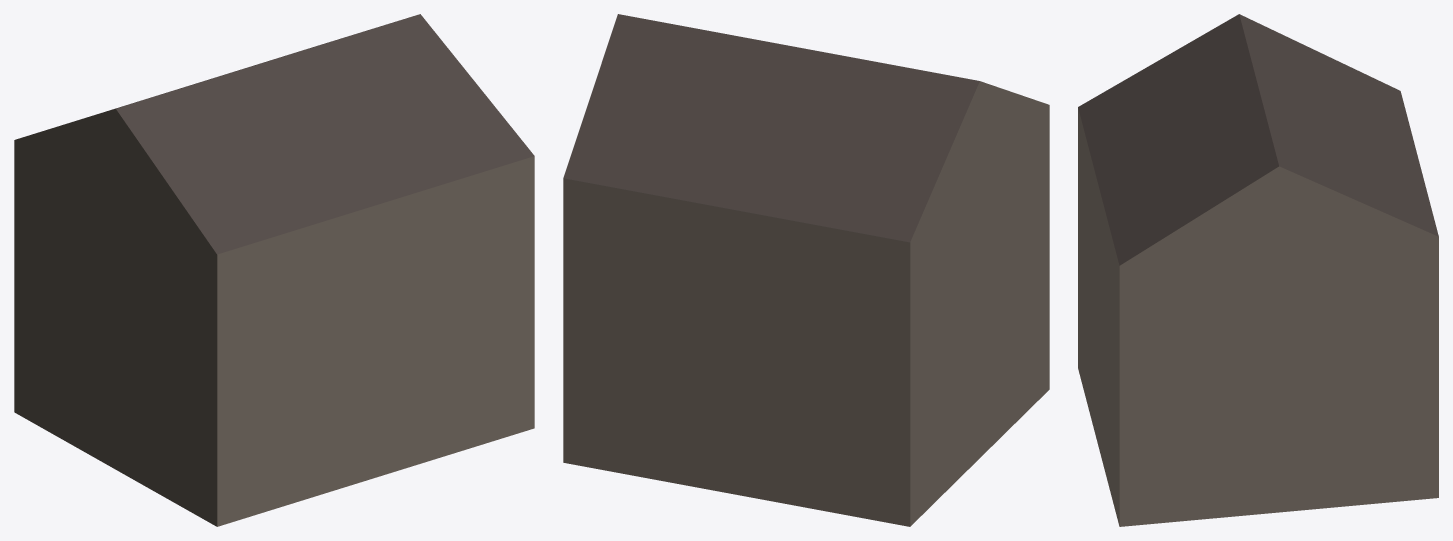
3 renders of one model, left to right at view 1: azimuth 30°, elevation 25°; view 2: azimuth 150°, elevation 25°; view 3: azimuth 270°, elevation 25°, orthographic. The views are drawn at different scales.
Parts seen in each view (by area): view 1: HP-w1512965854; view 2: HP-w1512965854; view 3: HP-w1512965854.
Boxes of the visible parts, box(x1,y1,x2,y2) form: HP-w1512965854: box(14, 14, 534, 526); HP-w1512965854: box(563, 14, 1049, 526); HP-w1512965854: box(1078, 14, 1438, 526).
Size of the model in its own units: 8.62 by 7.95 by 7.52.
